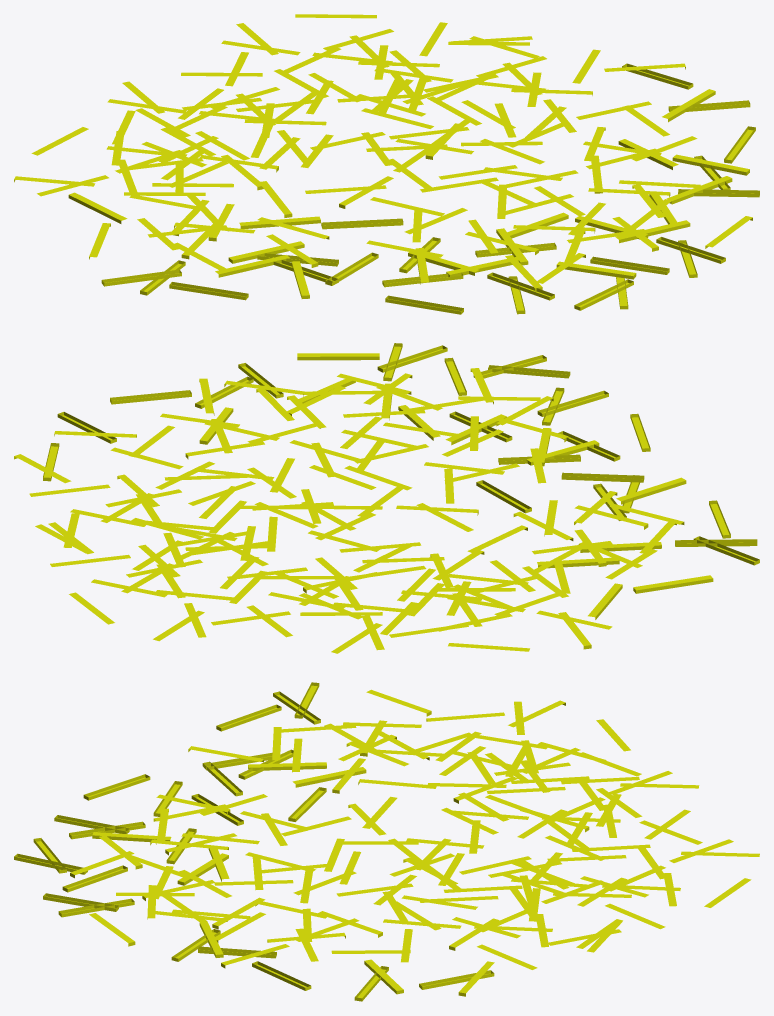
Rendered from cheese.fbx.
The picture shows the model from 3 angles, top to bottom: view 1: azimuth 30°, elevation 25°; view 2: azimuth 150°, elevation 25°; view 3: azimuth 270°, elevation 25°; orthographic projection. The views are drawn at different scales.
Parts seen in each view (by area): view 1: Cheese; view 2: Cheese; view 3: Cheese.
Part boxes in pixels (<box>): Cheese: <box>14,14,759,314</box>; Cheese: <box>14,343,759,653</box>; Cheese: <box>14,682,759,1001</box>.
Bounding box in the file's own units: 190 × 0.9172 × 189.
